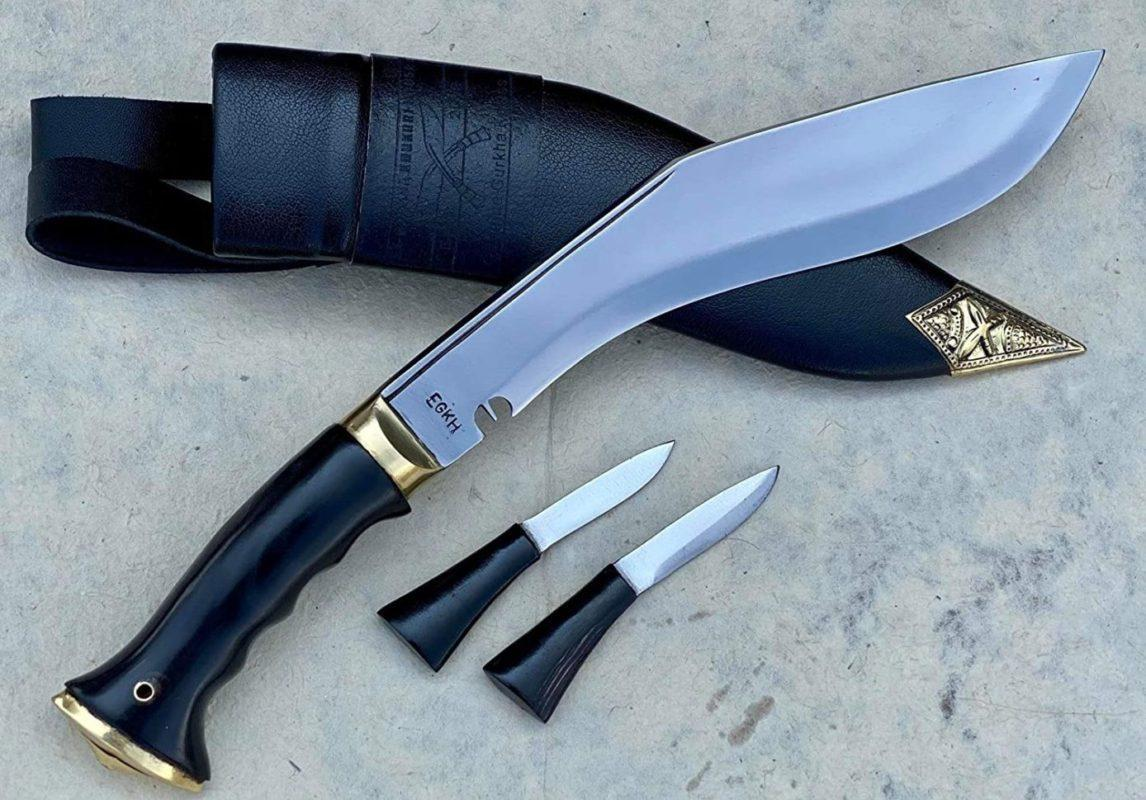faca: (485, 468, 777, 720), (386, 443, 670, 669)
facao: (53, 51, 1102, 789)
